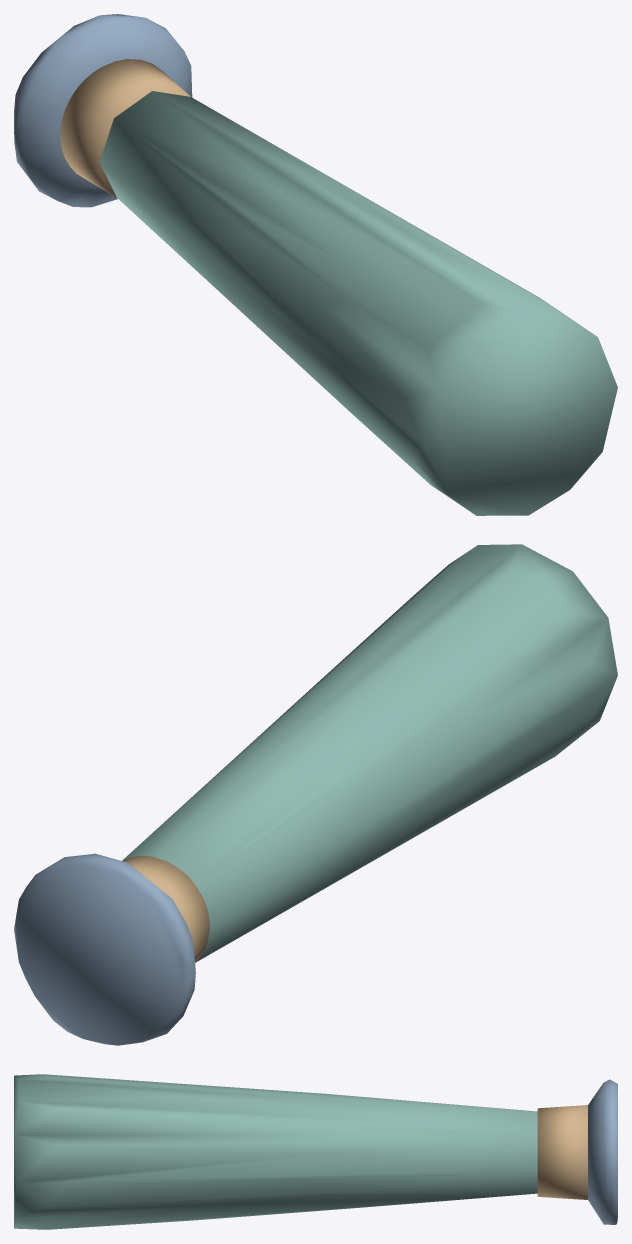
3 renders of one model, top to bottom at view 1: azimuth 30°, elevation 25°; view 2: azimuth 150°, elevation 25°; view 3: azimuth 270°, elevation 25°, orthographic. The views are drawn at different scales.
Size of the model in its own units: 0.5123 by 0.5121 by 1.94.
